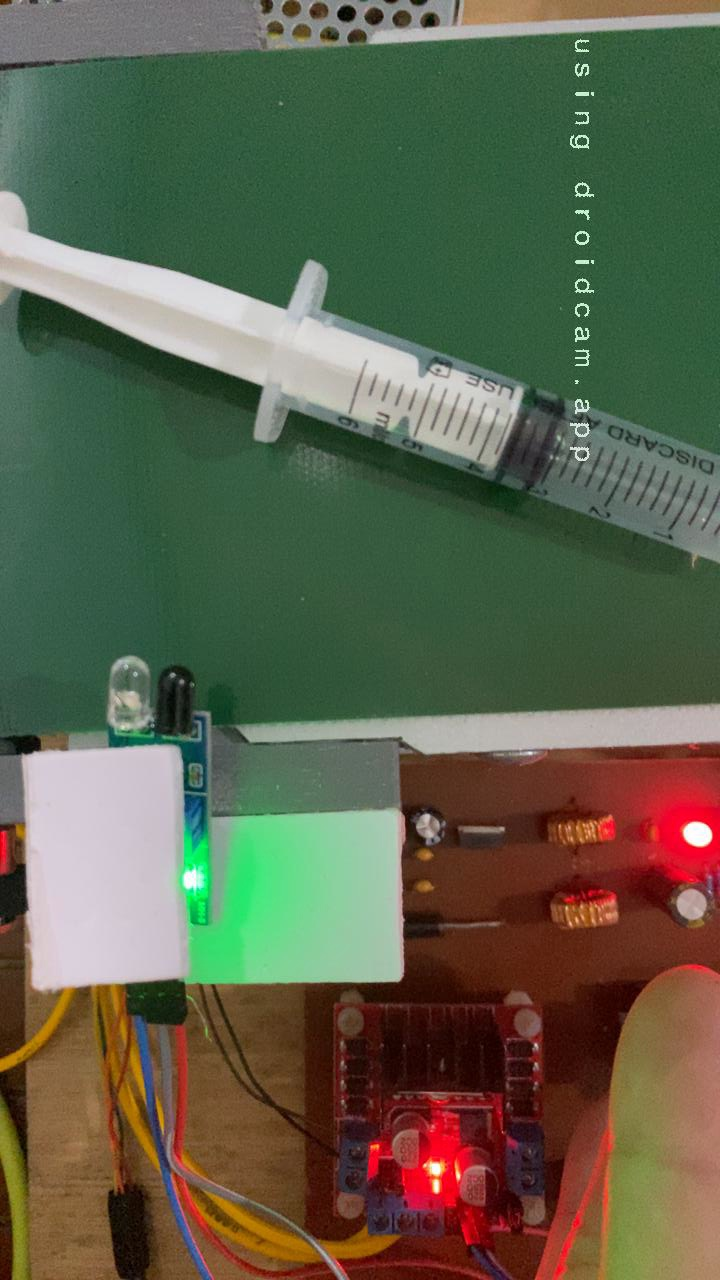syringe: (0, 178, 720, 570)
